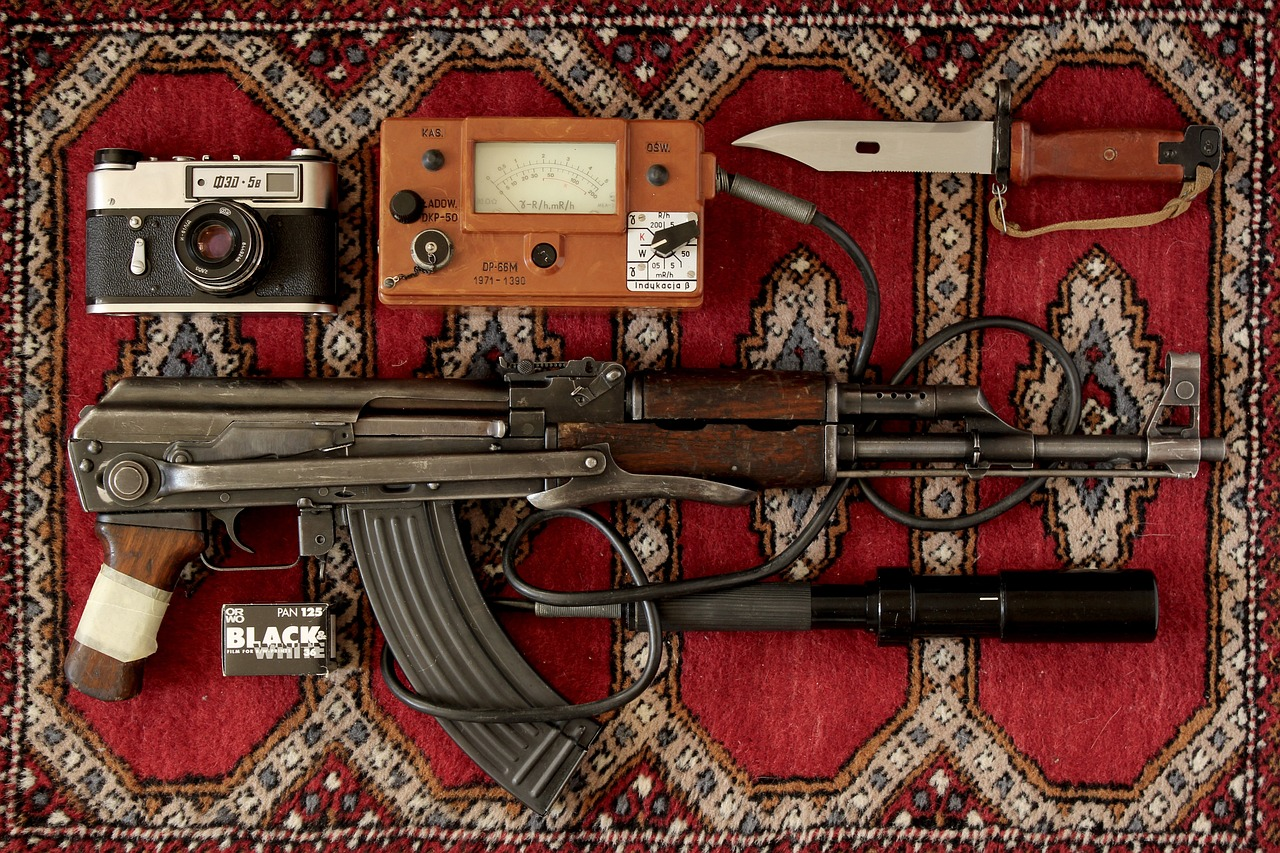gun: (45, 348, 1218, 826)
knife: (723, 109, 1236, 187)
